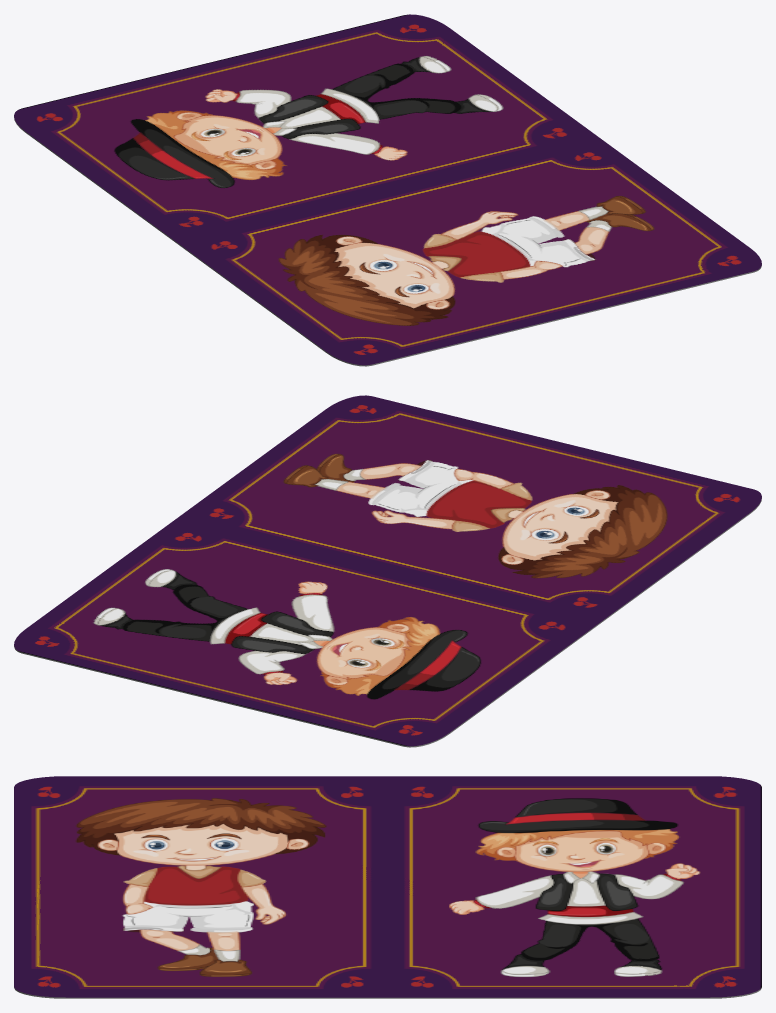
Rendered from Card 1.fbx.
The picture shows the model from 3 angles, top to bottom: view 1: azimuth 30°, elevation 25°; view 2: azimuth 150°, elevation 25°; view 3: azimuth 270°, elevation 25°; orthographic projection. The views are drawn at different scales.
Parts seen in each view (by area): view 1: Card; view 2: Card; view 3: Card.
Part boxes in pixels (x1,y1,x2,y2): Card: [14, 14, 761, 366]; Card: [14, 395, 761, 747]; Card: [14, 776, 761, 998].
Size of the model in its own units: 8.89 by 0.024 by 12.7.
